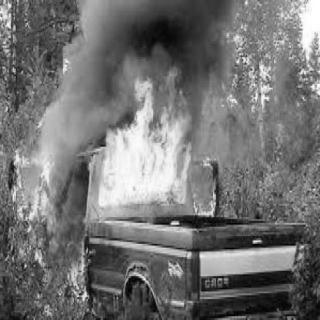Fire: (7, 144, 95, 313), (99, 65, 192, 207)
